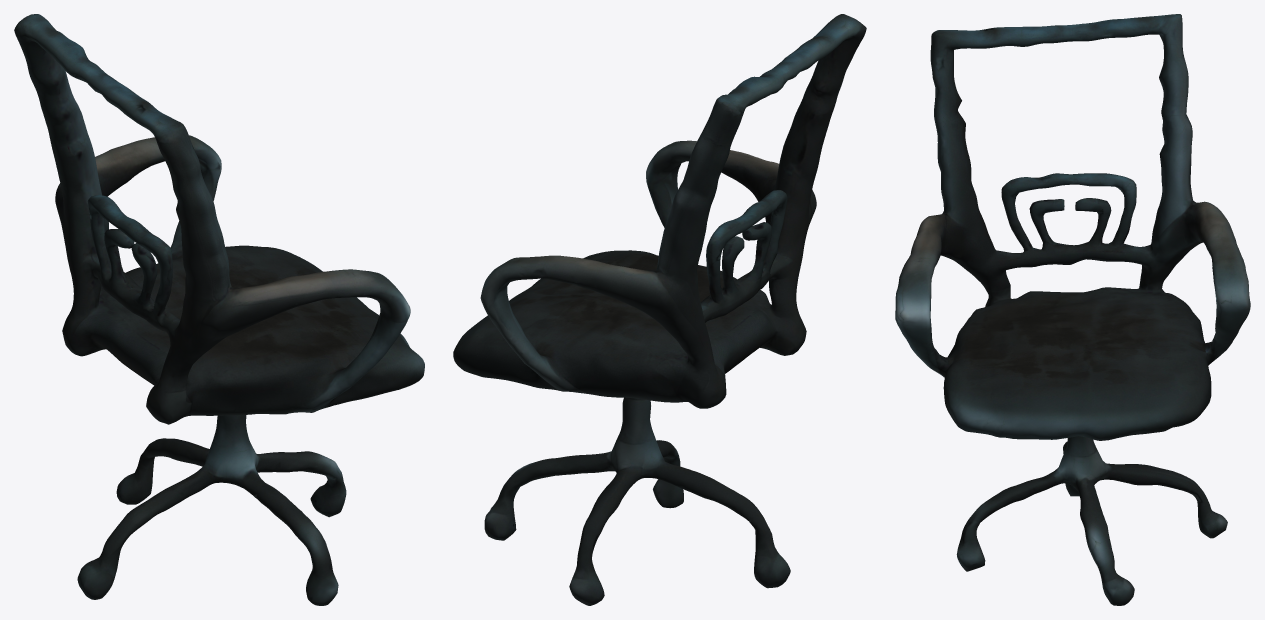
3 views of the same model, side by side, from view 1: azimuth 30°, elevation 25°; view 2: azimuth 150°, elevation 25°; view 3: azimuth 270°, elevation 25° (orthographic). The views are drawn at different scales.
Size of the model in its own units: 0.7012 by 1.2 by 0.8036.
Materials: 1 (1 with a texture image).
